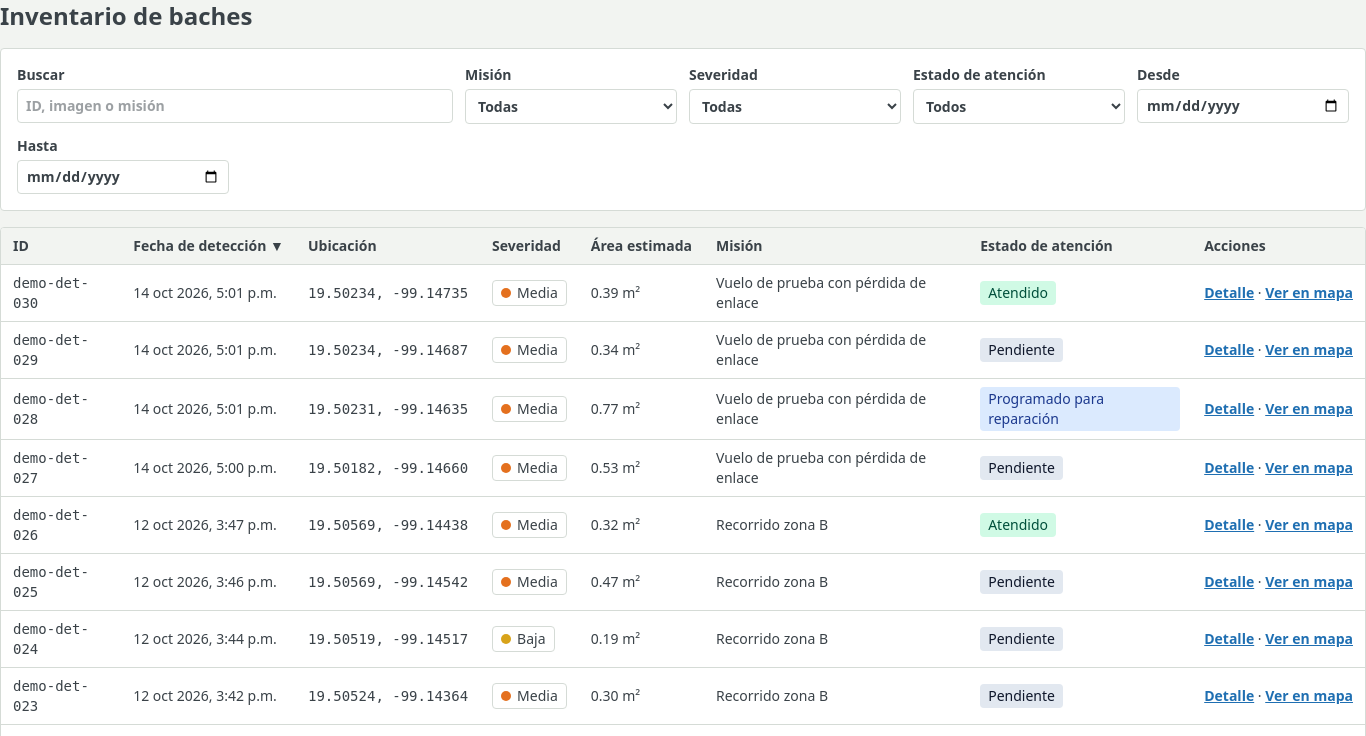
Test case: DetectionsPage (datos de demostración) › filtra al buscar y avisa si no hay resultados
Type "zzz-no-existe" into the search field labelled "Buscar".
click(235, 106); type("zzz-no-existe")  # box [17,89,453,123]
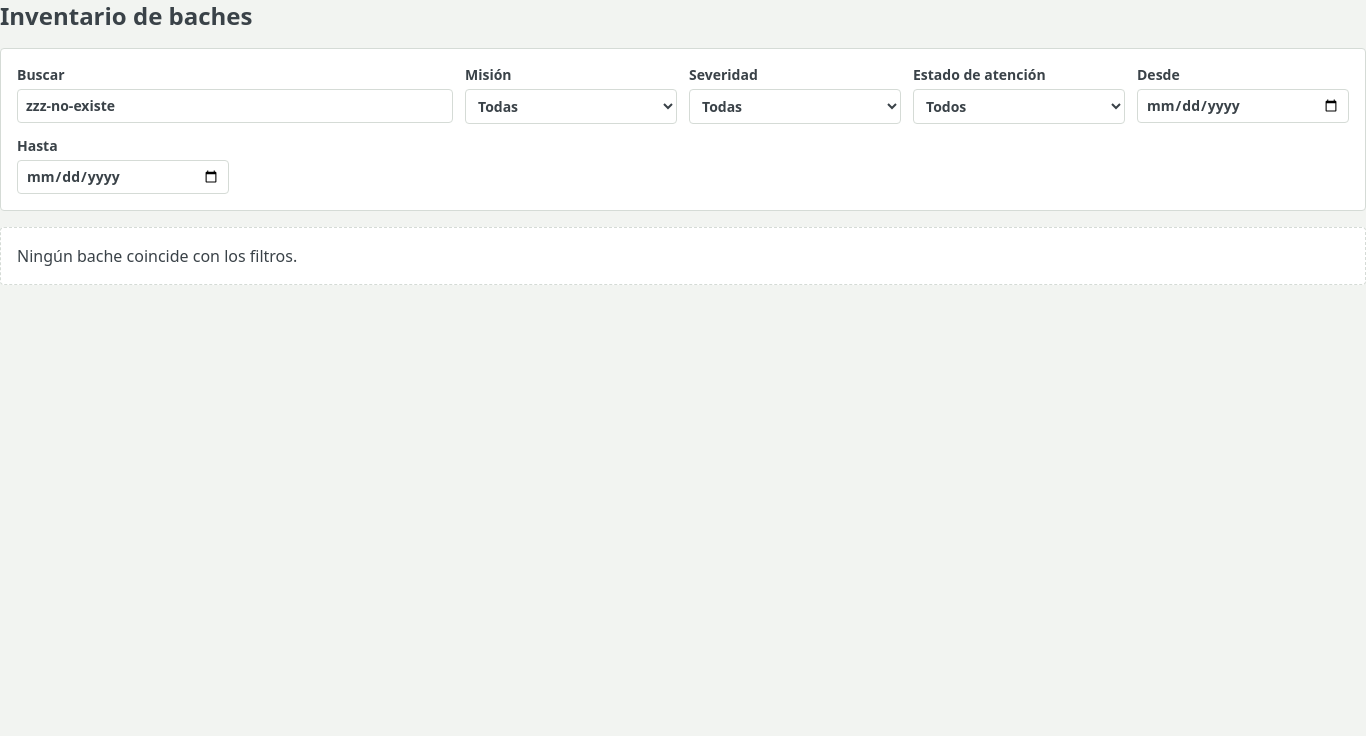
Expected: the text "Ningún bache coincide con los filtros." is shown, [0,227,1365,285]
